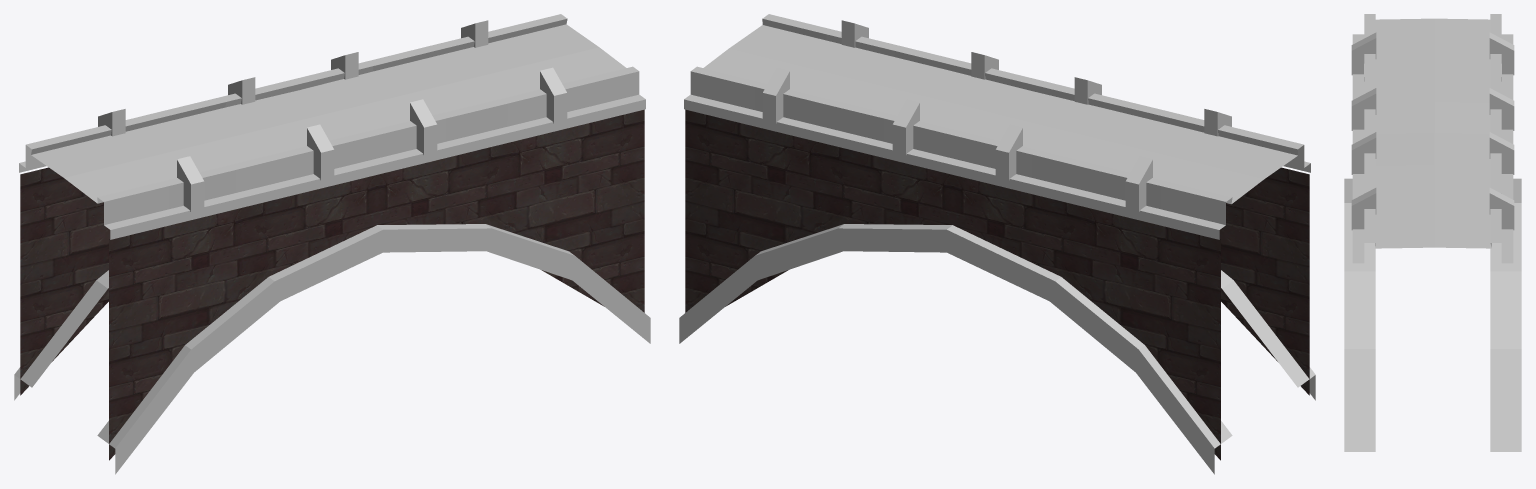
Rendered from 10504_NBridge01.FBX.
3 views of the same model, side by side, from view 1: azimuth 30°, elevation 25°; view 2: azimuth 150°, elevation 25°; view 3: azimuth 270°, elevation 25° (orthographic). The views are drawn at different scales.
Parts seen in each view (by area): view 1: m_sj006_3_007, Object907; view 2: m_sj006_3_007, Object907; view 3: m_sj006_3_007.
Boxes of the visible parts, x1,y1,x2,y2 form: m_sj006_3_007: (14, 14, 650, 474); Object907: (20, 109, 644, 460); m_sj006_3_007: (679, 14, 1315, 474); Object907: (685, 109, 1309, 460); m_sj006_3_007: (1344, 14, 1521, 451).
Size of the model in its own units: 2000 by 1009 by 653.
